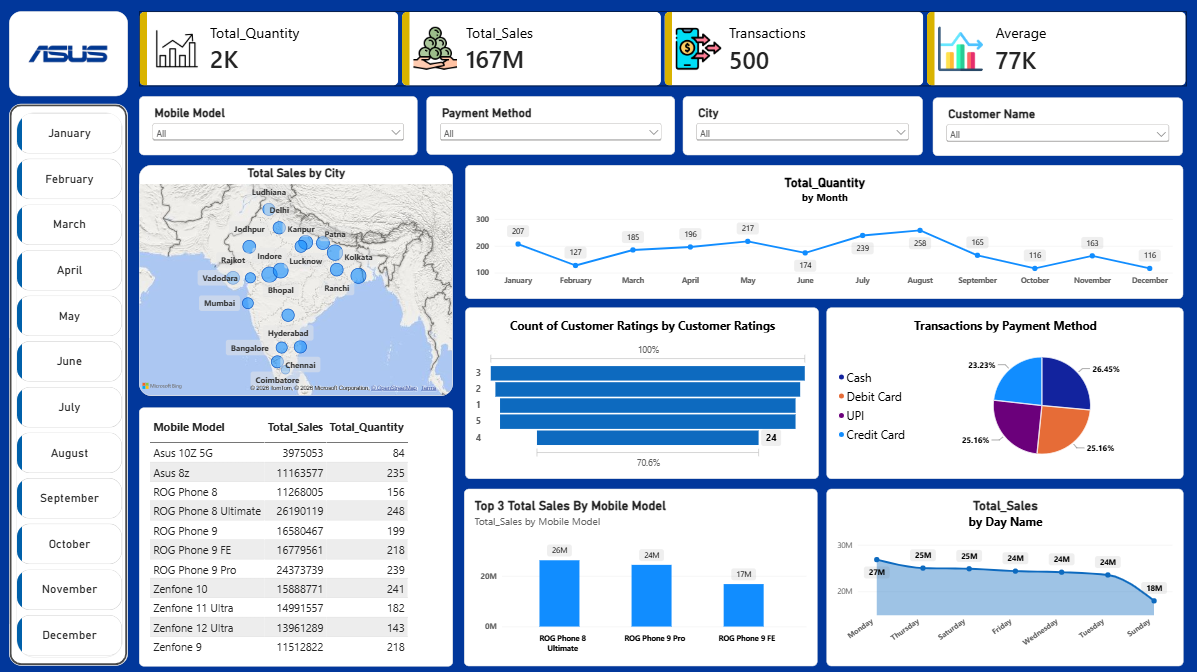

This screenshot's page, from the dashboard's own definition file:
{"tool":"powerbi","page":{"name":"Page 1","canvas":[1920,1080],"ordinal":0},"visuals":[{"type":"shape","box":[16.3,18.1,190,135.7],"z":0},{"type":"image","box":[14.5,5.4,193.6,161.1],"z":1000},{"type":"shape","box":[16.3,166.5,190,899.4],"z":2000},{"type":"advancedSlicerVisual","fields":{"Values":["Asus_Mobile_Sales_Data.Date.Variation.Date Hierarchy.Month"]},"box":[27.1,179.2,170.1,872.3],"z":3000},{"type":"cardVisual","fields":{"Data":["Asus_Mobile_Sales_Data.Total_Quantity","Asus_Mobile_Sales_Data.Total_Sales","Asus_Mobile_Sales_Data.Transactions","Asus_Mobile_Sales_Data.Average"]},"box":[224.5,18.4,1679.6,120.4],"z":4000},{"type":"map","title":"Total Sales by City","fields":{"Category":["Asus_Mobile_Sales_Data.City"],"Size":["Asus_Mobile_Sales_Data.Total_Sales"]},"box":[224.5,263.3,502,369.4],"z":5000},{"type":"lineChart","fields":{"Y":["Asus_Mobile_Sales_Data.Total_Quantity"],"Category":["Asus_Mobile_Sales_Data.Date.Variation.Date Hierarchy.Month","Asus_Mobile_Sales_Data.Date.Variation.Date Hierarchy.Day"]},"box":[745.5,263.6,1149.1,214.5],"z":6000},{"type":"pieChart","fields":{"Category":["Asus_Mobile_Sales_Data.Payment Method"],"Y":["Asus_Mobile_Sales_Data.Transactions"]},"box":[1323.6,492.7,570.9,274.5],"z":7000},{"type":"funnel","fields":{"Category":["Asus_Mobile_Sales_Data.Customer Ratings"],"Y":["CountNonNull(Asus_Mobile_Sales_Data.Customer Ratings)"]},"box":[745.5,492.7,565.5,274.5],"z":8000},{"type":"areaChart","fields":{"Category":["Asus_Mobile_Sales_Data.Day Name"],"Y":["Asus_Mobile_Sales_Data.Total_Sales"]},"box":[1323.6,781.8,570.9,283.6],"z":9000},{"type":"tableEx","fields":{"Values":["Asus_Mobile_Sales_Data.Mobile Model","Asus_Mobile_Sales_Data.Total_Sales","Asus_Mobile_Sales_Data.Total_Quantity"]},"box":[224.5,651,502,414.3],"z":10000},{"type":"slicer","fields":{"Values":["Asus_Mobile_Sales_Data.Mobile Model"]},"box":[223.6,154.5,445.5,94.5],"z":11000},{"type":"clusteredColumnChart","title":"Top 3 Total Sales By Mobile Model","fields":{"Category":["Asus_Mobile_Sales_Data.Mobile Model"],"Y":["Asus_Mobile_Sales_Data.Total_Sales"]},"box":[744.9,781.6,565.3,283.7],"z":11001},{"type":"slicer","fields":{"Values":["Asus_Mobile_Sales_Data.Payment Method"]},"box":[683.6,154.5,398,93.9],"z":11002},{"type":"slicer","fields":{"Values":["Asus_Mobile_Sales_Data.City"]},"box":[1094.5,154.5,383.6,94.5],"z":11003},{"type":"slicer","fields":{"Values":["Asus_Mobile_Sales_Data.Customer Name"]},"box":[1493.9,155.1,400,93.9],"z":11004}]}

Visuals, with their boxes in screenshot pixels (x1, y1, x2, y2), scaled from the page's 1920x1080 canvas onto the 1197x672 screenshot:
shape: crop(10, 11, 129, 96)
image: crop(9, 3, 130, 104)
shape: crop(10, 104, 129, 663)
advancedSlicerVisual - Asus_Mobile_Sales_Data.Date.Variation.Date Hierarchy.Month: crop(17, 112, 123, 654)
cardVisual - Asus_Mobile_Sales_Data.Total_Quantity x Asus_Mobile_Sales_Data.Total_Sales: crop(140, 11, 1187, 86)
"Total Sales by City" map: crop(140, 164, 453, 394)
lineChart - Asus_Mobile_Sales_Data.Total_Quantity x Asus_Mobile_Sales_Data.Date.Variation.Date Hierarchy.Month: crop(465, 164, 1181, 297)
pieChart - Asus_Mobile_Sales_Data.Payment Method x Asus_Mobile_Sales_Data.Transactions: crop(825, 307, 1181, 477)
funnel - Asus_Mobile_Sales_Data.Customer Ratings x CountNonNull(Asus_Mobile_Sales_Data.Customer Ratings): crop(465, 307, 817, 477)
areaChart - Asus_Mobile_Sales_Data.Day Name x Asus_Mobile_Sales_Data.Total_Sales: crop(825, 486, 1181, 663)
tableEx - Asus_Mobile_Sales_Data.Mobile Model x Asus_Mobile_Sales_Data.Total_Sales: crop(140, 405, 453, 663)
slicer - Asus_Mobile_Sales_Data.Mobile Model: crop(139, 96, 417, 155)
"Top 3 Total Sales By Mobile Model" clusteredColumnChart: crop(464, 486, 817, 663)
slicer - Asus_Mobile_Sales_Data.Payment Method: crop(426, 96, 674, 155)
slicer - Asus_Mobile_Sales_Data.City: crop(682, 96, 922, 155)
slicer - Asus_Mobile_Sales_Data.Customer Name: crop(931, 97, 1181, 155)
